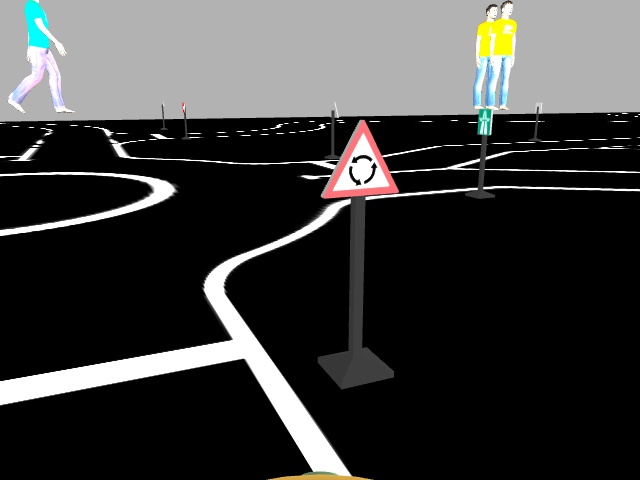HighwayEntrance: (474, 106, 493, 135)
Roundabout: (314, 117, 403, 199)
